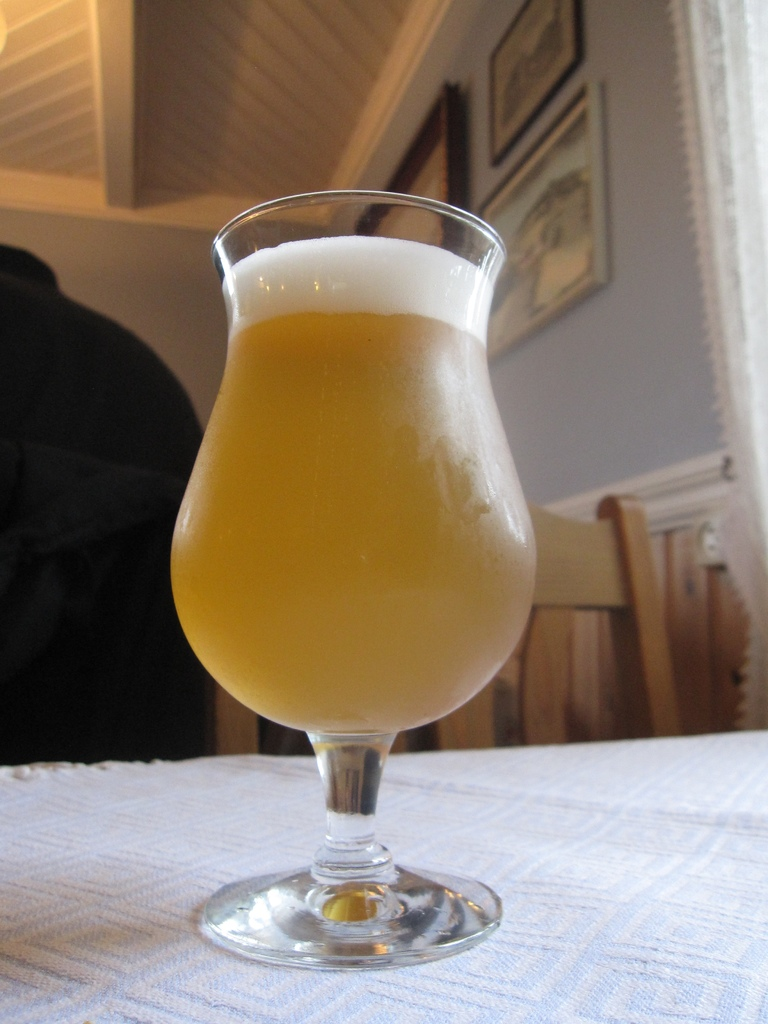Beer: (170, 190, 534, 969)
